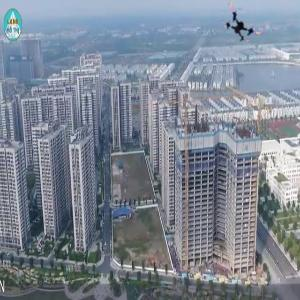drone: (220, 2, 267, 49)
